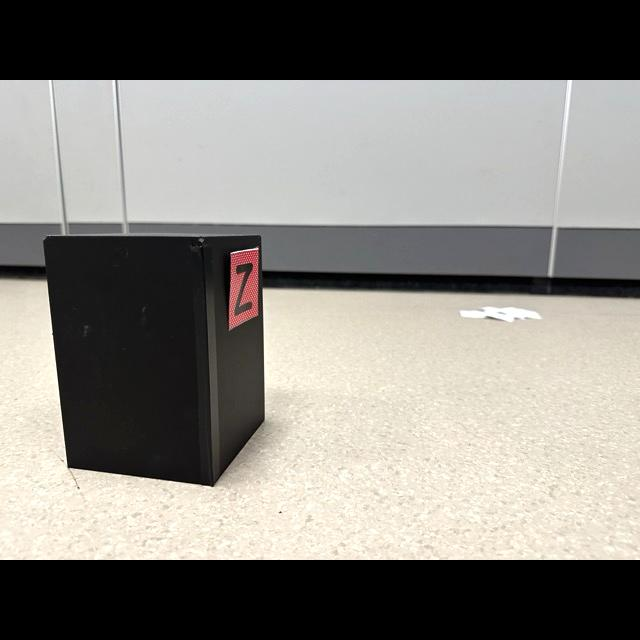Z: (235, 263, 253, 316)
